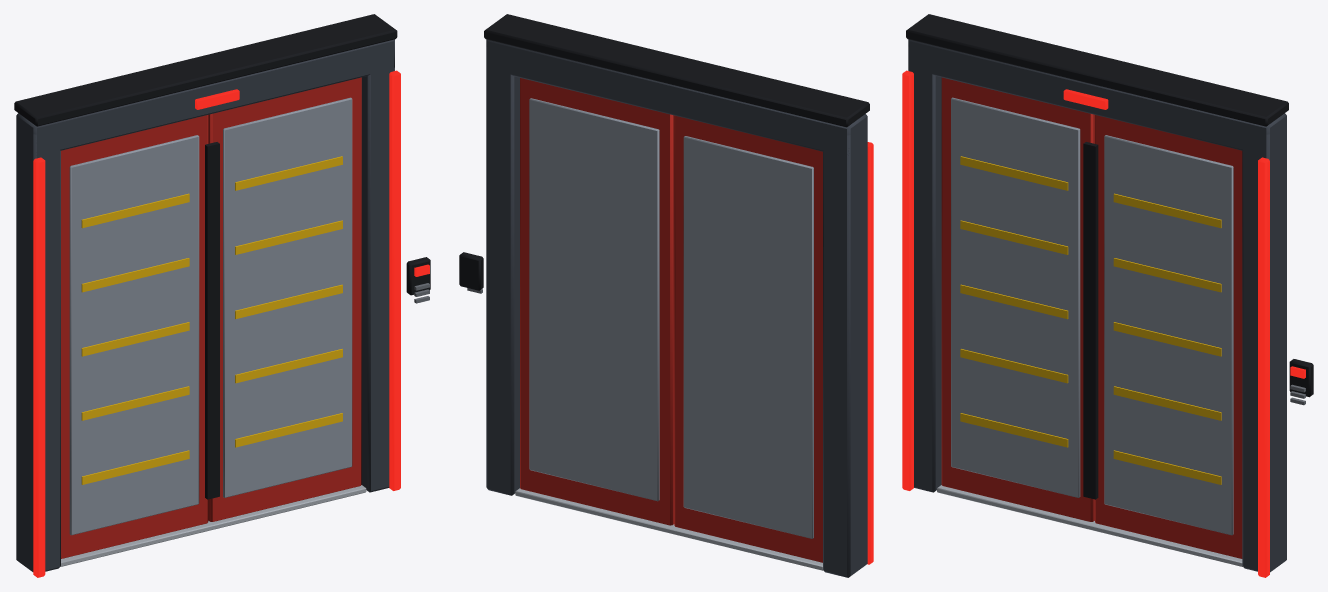
The model's file is door_security.glb.
The picture shows the model from 3 angles, left to right: view 1: azimuth 30°, elevation 25°; view 2: azimuth 150°, elevation 25°; view 3: azimuth 330°, elevation 25°; orthographic projection.
Parts seen in each view (by area): view 1: leaf_l, body, leaf_r; view 2: leaf_r, body, leaf_l; view 3: leaf_r, body, leaf_l.
Part boxes in pixels (x1,y1,x2,y2): leaf_l: [61, 115, 213, 558]; body: [14, 14, 430, 577]; leaf_r: [208, 77, 361, 521]; leaf_r: [520, 78, 674, 525]; body: [459, 14, 873, 577]; leaf_l: [674, 115, 822, 562]; leaf_r: [1089, 115, 1242, 558]; body: [902, 14, 1313, 577]; leaf_l: [941, 77, 1094, 521].
Size of the model in its own units: 2.62 by 2.86 by 0.285.
